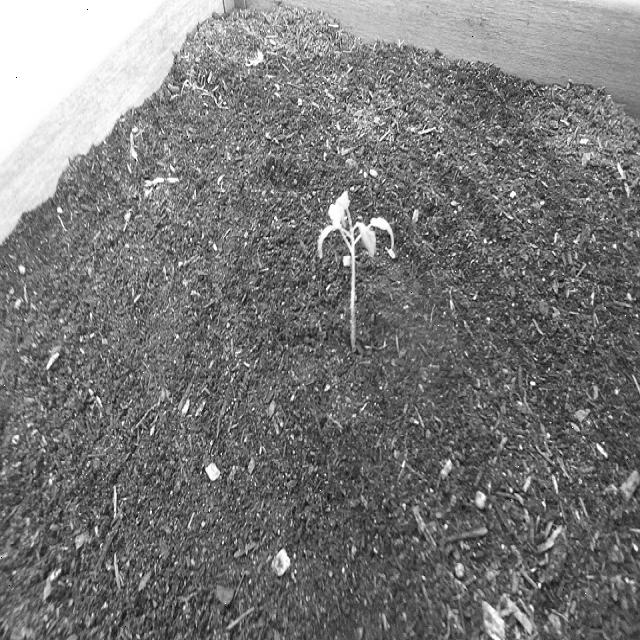Healthy: (315, 188, 396, 361)
